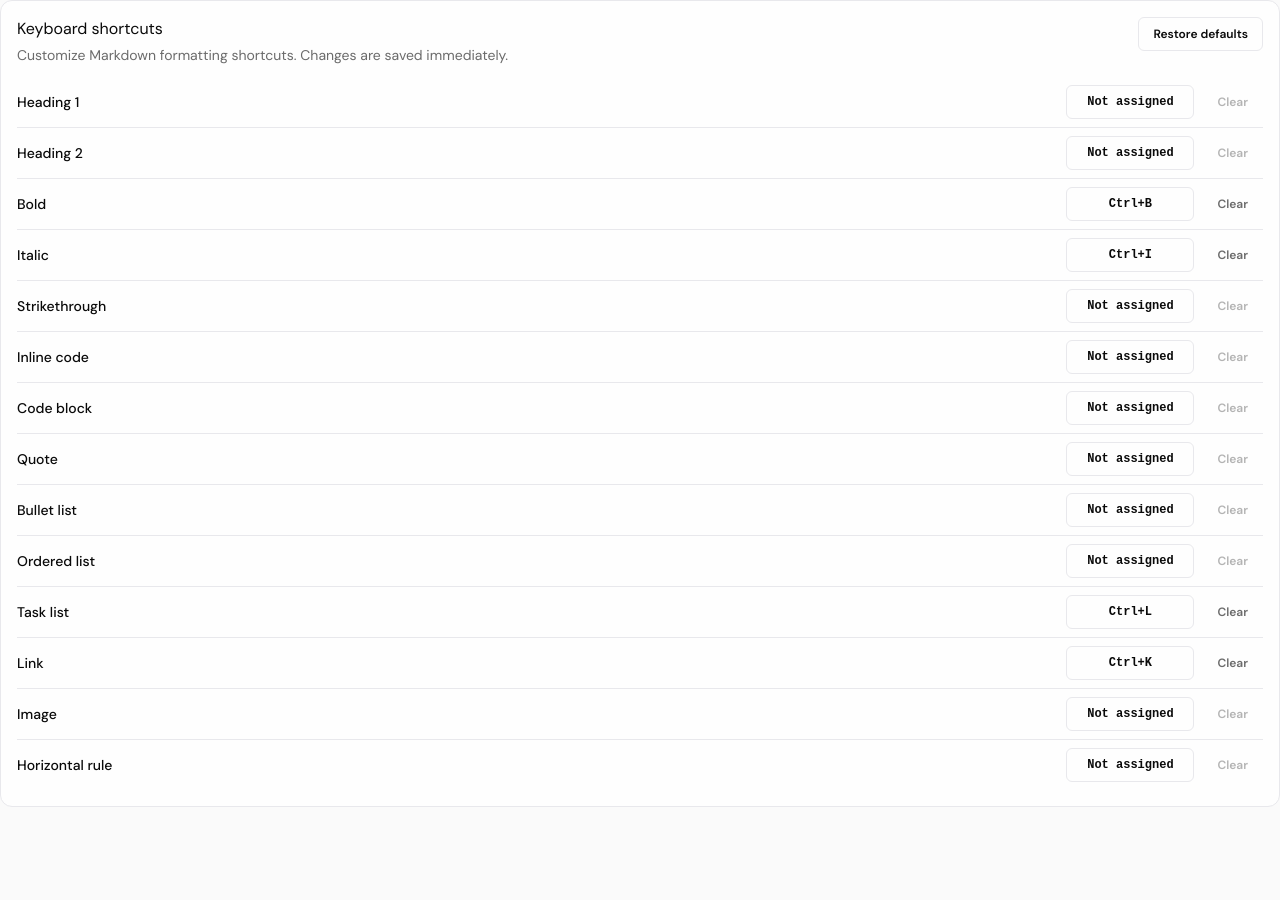
Scenario: EditorShortcutSettings › does not replace the old value when a shortcut conflicts
This screenshot has width=1280, height=900.
Click the button with aria-label "Change Bold shortcut" at (1130, 204), box [1066,187,1194,221]
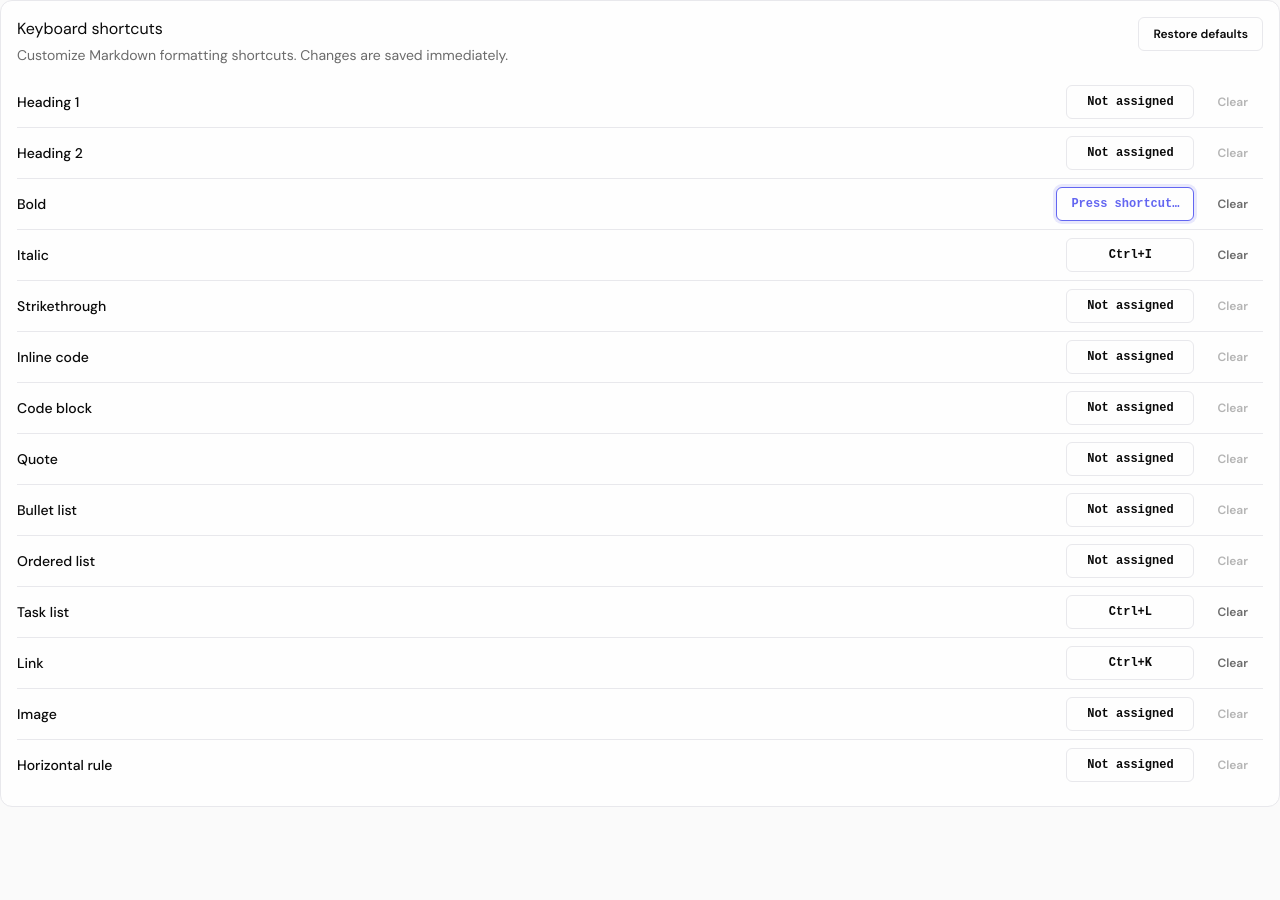
Press i in the button with aria-label "Change Bold shortcut", box [1056,187,1194,221]
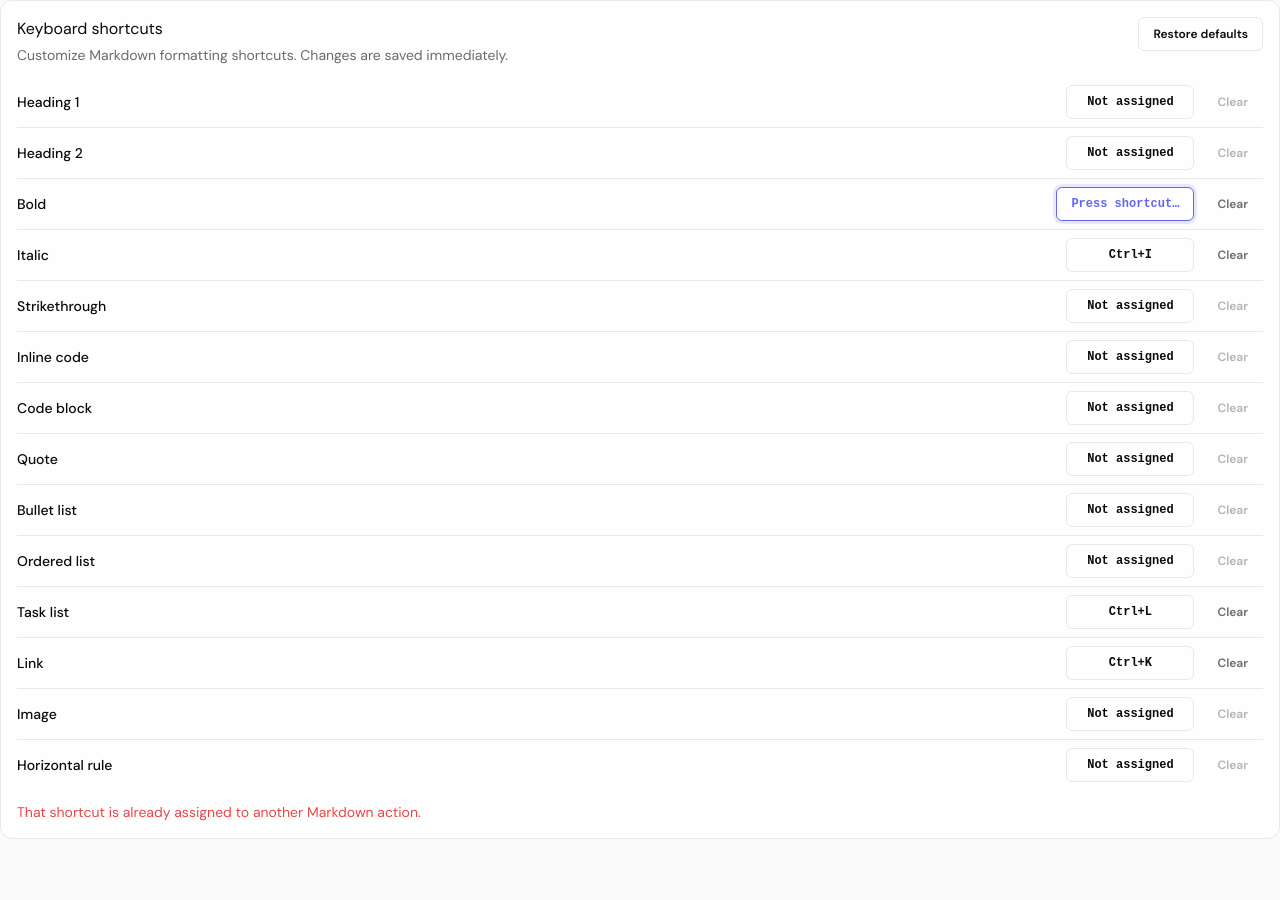
Expected: the message shows "already assigned", [17,803,421,821]
Press Escape in the button with aria-label "Change Bold shortcut", box [1056,187,1194,221]
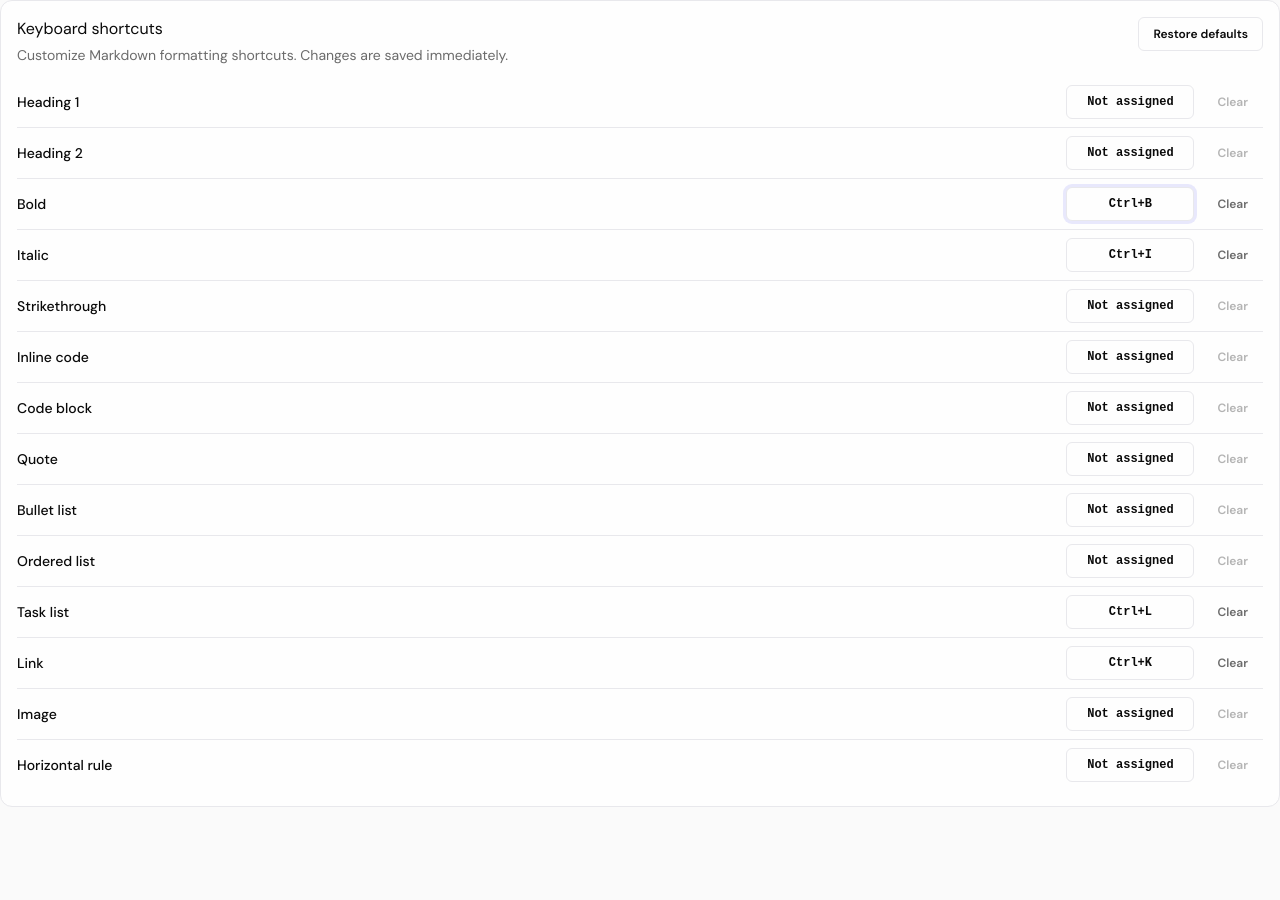
Expected: the button with aria-label "Change Bold shortcut" reads "Ctrl+B", [1066,187,1194,221]
